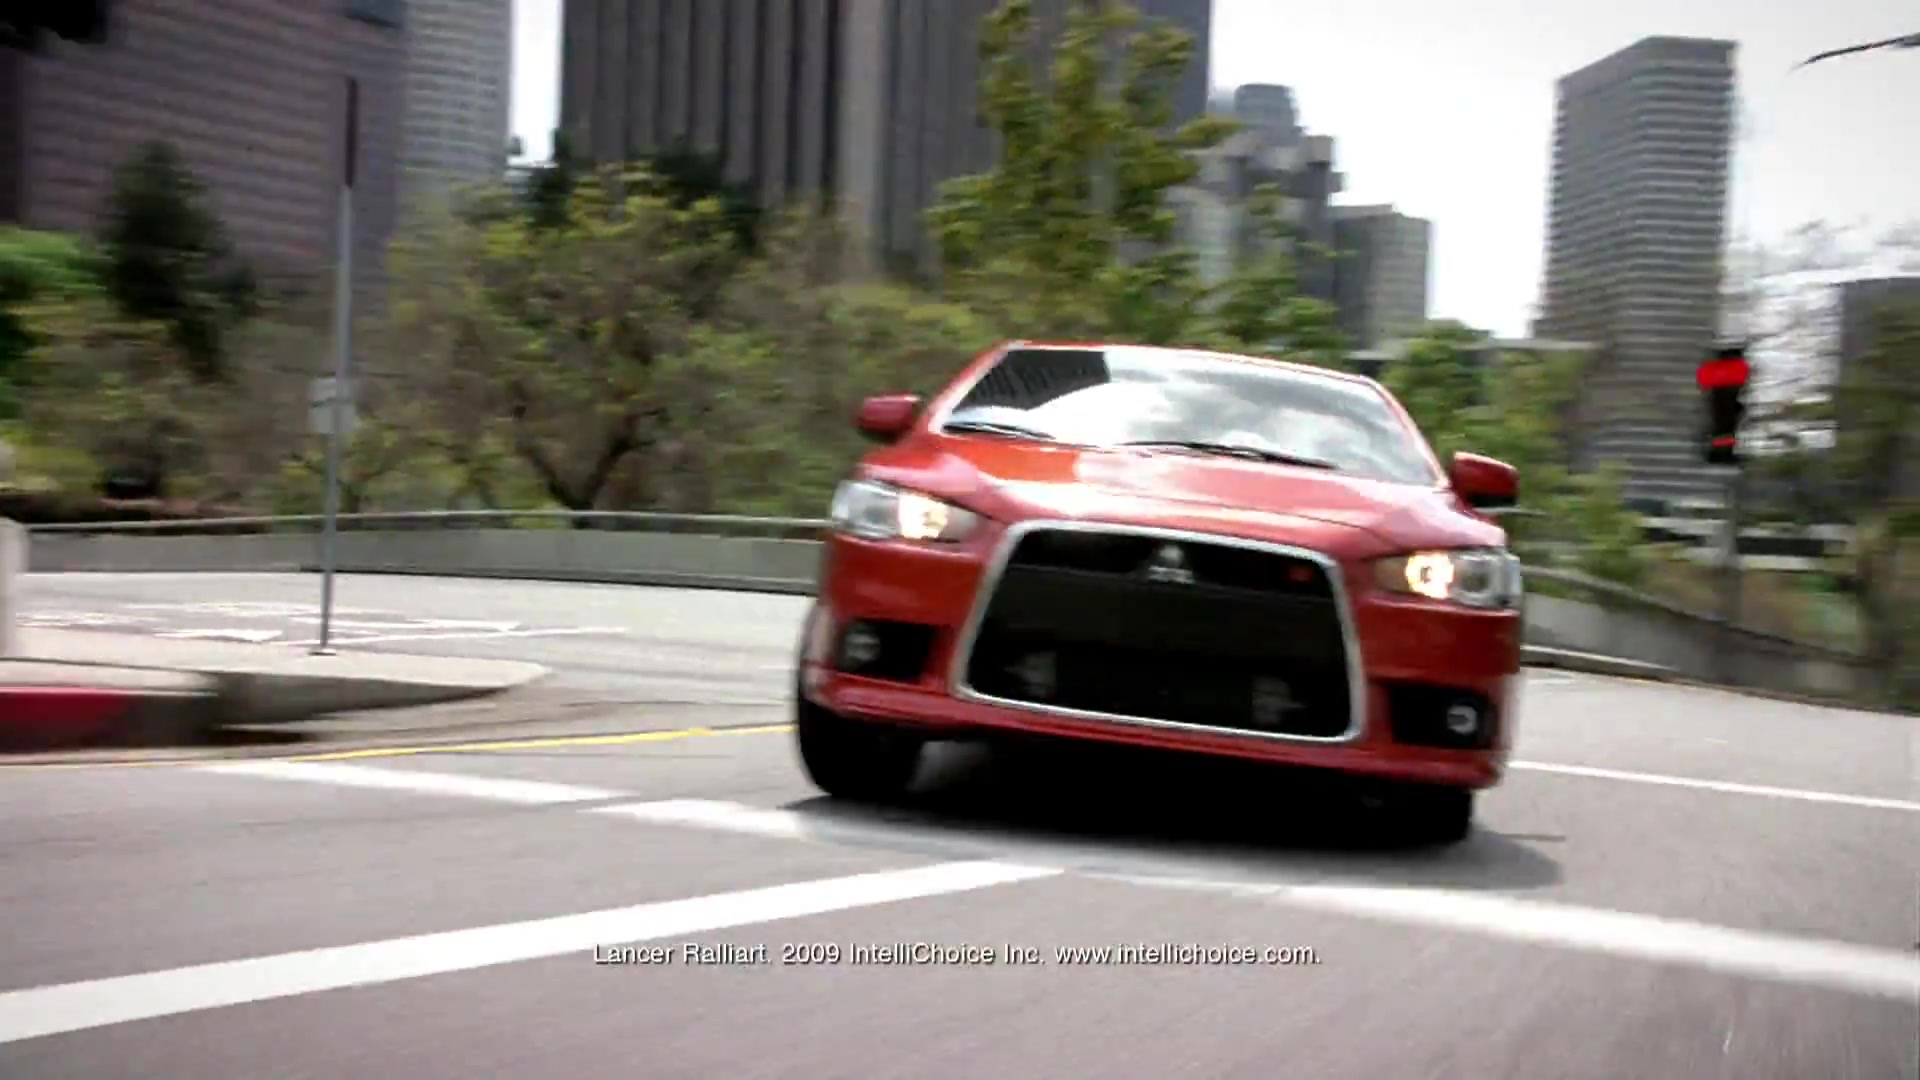car: (793, 334, 1534, 858)
